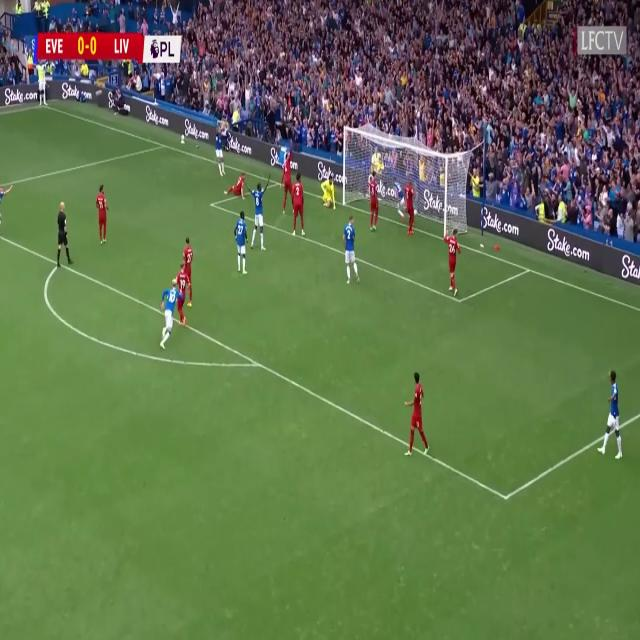ball: (414, 209, 418, 217)
team1: (402, 369, 433, 464), (280, 137, 295, 215), (446, 226, 462, 294), (96, 177, 109, 247), (293, 171, 305, 241), (177, 262, 188, 334), (225, 170, 248, 201), (404, 176, 416, 234), (370, 170, 380, 233), (187, 228, 196, 295)
team2: (596, 365, 625, 465), (159, 268, 179, 356), (340, 210, 361, 288), (250, 178, 270, 255), (232, 205, 251, 278), (212, 128, 227, 184), (0, 174, 16, 222), (391, 173, 404, 224)
